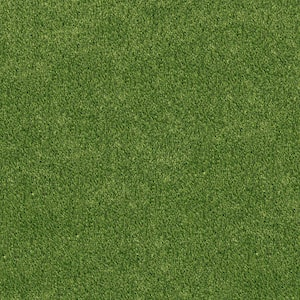grass: (1, 2, 300, 300)
